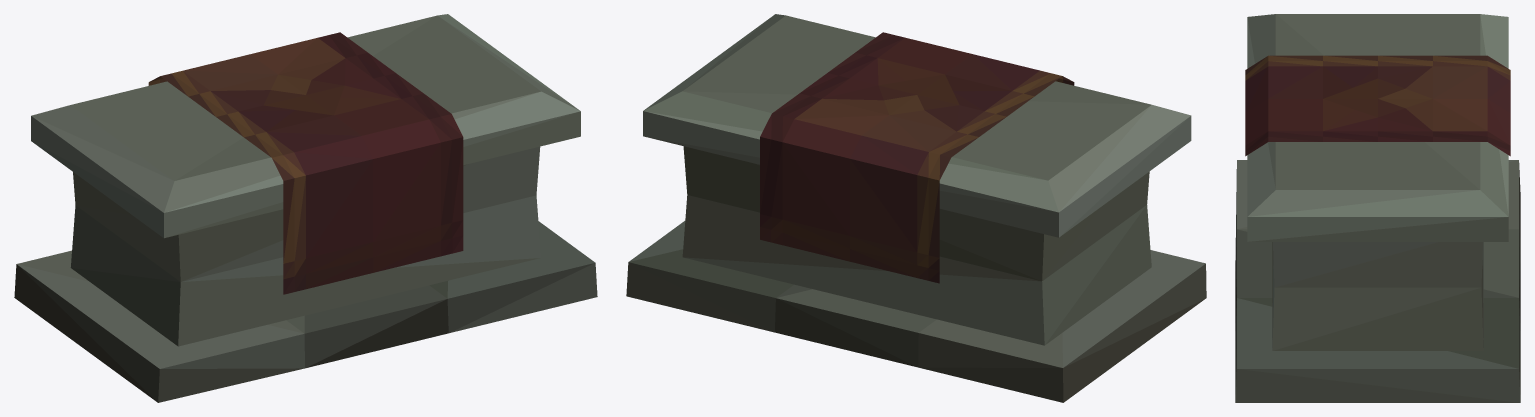
Rendered from prop_decor_altar_2.fbx.
The picture shows the model from 3 angles, left to right: view 1: azimuth 30°, elevation 25°; view 2: azimuth 150°, elevation 25°; view 3: azimuth 270°, elevation 25°; orthographic projection.
Visible parts, largest first — view 1: prop_decor_altar_2; view 2: prop_decor_altar_2; view 3: prop_decor_altar_2.
Boxes of the visible parts, bbox=[...] form: prop_decor_altar_2: bbox=[14, 14, 597, 402]; prop_decor_altar_2: bbox=[626, 14, 1206, 402]; prop_decor_altar_2: bbox=[1235, 14, 1520, 402].
Size of the model in its own units: 3.65 by 1.61 by 2.09.
